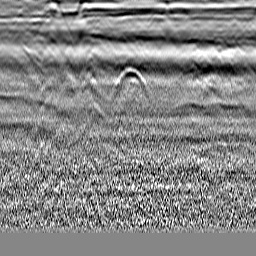cavity: (113, 65, 146, 88)
